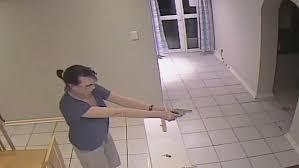weapon: (167, 104, 194, 121)
